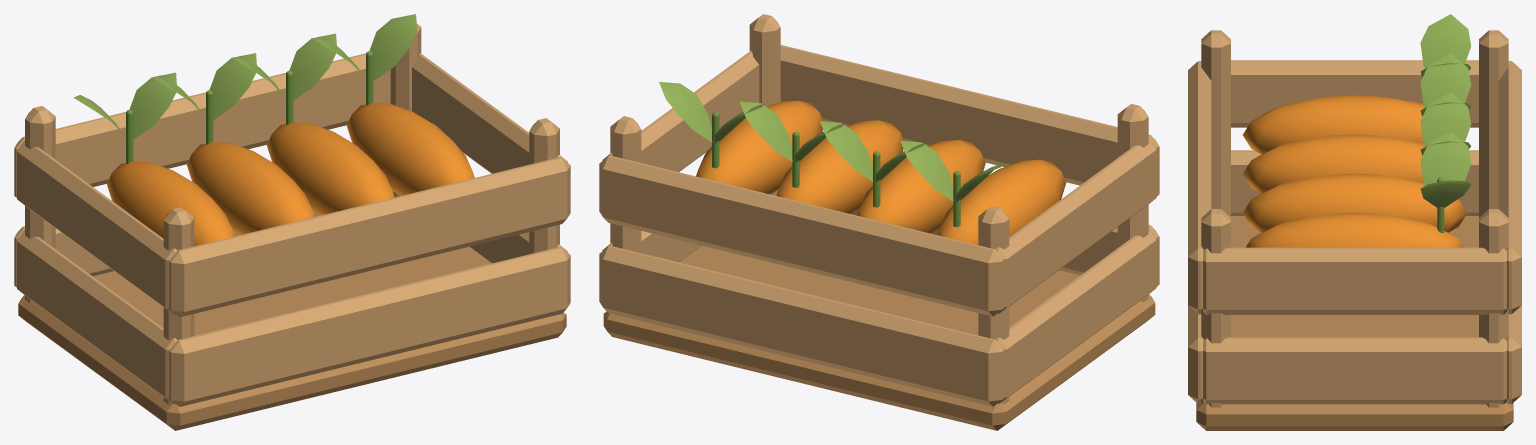
File: produce-crate.glb
3 renders of one model, left to right at view 1: azimuth 30°, elevation 25°; view 2: azimuth 150°, elevation 25°; view 3: azimuth 270°, elevation 25°, orthographic.
Parts seen in each view (by area): view 1: produce_crate; view 2: produce_crate; view 3: produce_crate.
Boxes of the visible parts, x1=… form: produce_crate: x1=14, y1=14, x2=570, y2=430; produce_crate: x1=599, y1=14, x2=1159, y2=430; produce_crate: x1=1188, y1=14, x2=1521, y2=430.
Bounding box in the file's own units: 0.705 × 0.4 × 0.505.
